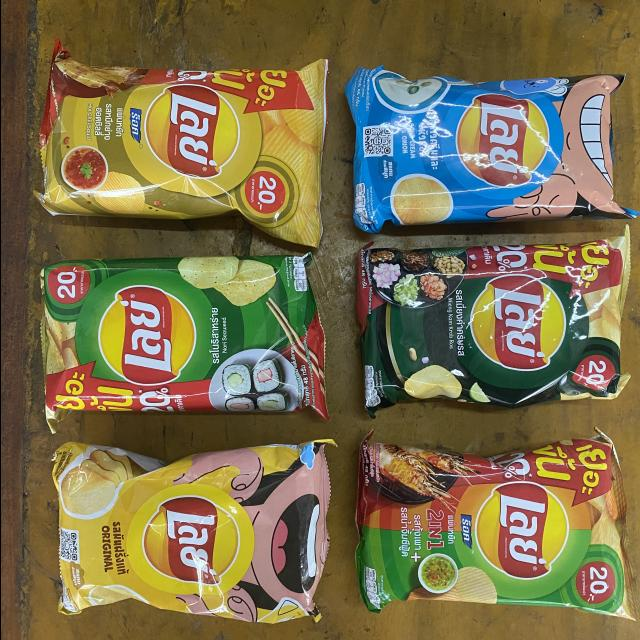plastik: (37, 39, 327, 247), (355, 430, 636, 619), (51, 440, 331, 623), (40, 255, 327, 432), (358, 230, 627, 413), (344, 67, 636, 233)
